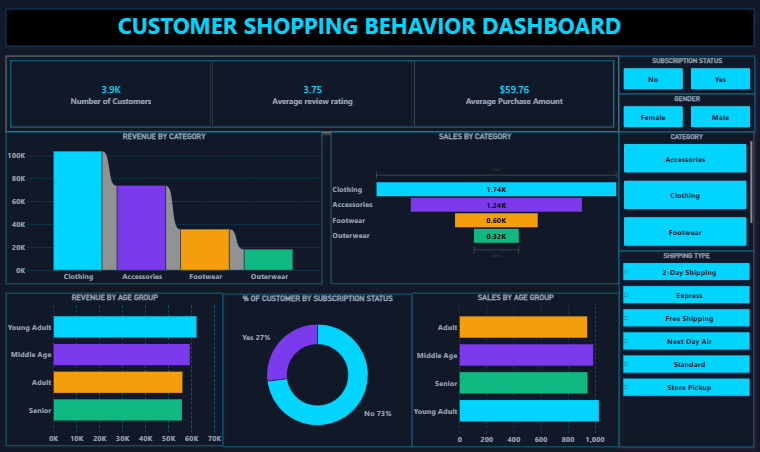

Layout of this report page (visuals, bound fields, positions):
{"tool":"powerbi","page":{"name":"Page 1","canvas":[3000,1800],"ordinal":0},"visuals":[{"type":"cardVisual","fields":{"Data":["public customer.Number of Customers","public customer.Average review rating","public customer.Average Purchase Amount"]},"box":[27.6,228.3,2413.4,299.2],"z":0},{"type":"shape","box":[27.6,43.3,2944.9,145.7],"z":1000},{"type":"textbox","box":[27.6,43.3,2862.2,145.7],"z":2000},{"type":"donutChart","title":"% OF  CUSTOMER BY SUBSCRIPTION STATUS","fields":{"Category":["public customer.subscription_status"],"Y":["CountNonNull(public customer.customer_id)"]},"box":[881.9,1165.4,744.1,602.4],"z":3000},{"type":"columnChart","title":"REVENUE BY CATEGORY","fields":{"Category":["public customer.category"],"Y":["Sum(public customer.purchase_amount)"]},"box":[27.6,527.6,1244.1,598.4],"z":4000},{"type":"funnel","title":"SALES BY CATEGORY","fields":{"Category":["public customer.category"],"Y":["CountNonNull(public customer.customer_id)"]},"box":[1307.1,527.6,1133.9,598.4],"z":5000},{"type":"advancedSlicerVisual","title":"SUBSCRIPTION STATUS","fields":{"Values":["public customer.subscription_status"]},"box":[2440.9,228.3,535.4,149.6],"z":6000},{"type":"advancedSlicerVisual","title":"GENDER","fields":{"Values":["public customer.gender"]},"box":[2440.9,378,535.4,149.6],"z":7000},{"type":"advancedSlicerVisual","title":"CATEGORY","fields":{"Values":["public customer.category"]},"box":[2440.9,527.6,531.5,468.5],"z":8000},{"type":"listSlicer","title":"SHIPPING TYPE","fields":{"Values":["public customer.shipping_type"]},"box":[2440.9,996.1,531.5,771.7],"z":9000},{"type":"clusteredBarChart","title":"REVENUE BY AGE GROUP","fields":{"Y":["Sum(public customer.purchase_amount)"],"Category":["public customer.age_group"]},"box":[27.6,1161.4,854.3,602.4],"z":10000},{"type":"clusteredBarChart","title":"SALES  BY AGE GROUP","fields":{"Category":["public customer.age_group"],"Y":["CountNonNull(public customer.customer_id)"]},"box":[1626,1161.4,815,606.3],"z":11000}]}

Visuals, with their boxes in screenshot pixels (x1, y1, x2, y2), scaled from the page's 3000x1800 canvas onto the 760x452 screenshot:
cardVisual - public customer.Number of Customers x public customer.Average review rating: left=7, top=57, right=618, bottom=132
shape: left=7, top=11, right=753, bottom=47
textbox: left=7, top=11, right=732, bottom=47
"% OF  CUSTOMER BY SUBSCRIPTION STATUS" donutChart: left=223, top=293, right=412, bottom=444
"REVENUE BY CATEGORY" columnChart: left=7, top=132, right=322, bottom=283
"SALES BY CATEGORY" funnel: left=331, top=132, right=618, bottom=283
"SUBSCRIPTION STATUS" advancedSlicerVisual: left=618, top=57, right=754, bottom=95
"GENDER" advancedSlicerVisual: left=618, top=95, right=754, bottom=132
"CATEGORY" advancedSlicerVisual: left=618, top=132, right=753, bottom=250
"SHIPPING TYPE" listSlicer: left=618, top=250, right=753, bottom=444
"REVENUE BY AGE GROUP" clusteredBarChart: left=7, top=292, right=223, bottom=443
"SALES  BY AGE GROUP" clusteredBarChart: left=412, top=292, right=618, bottom=444
